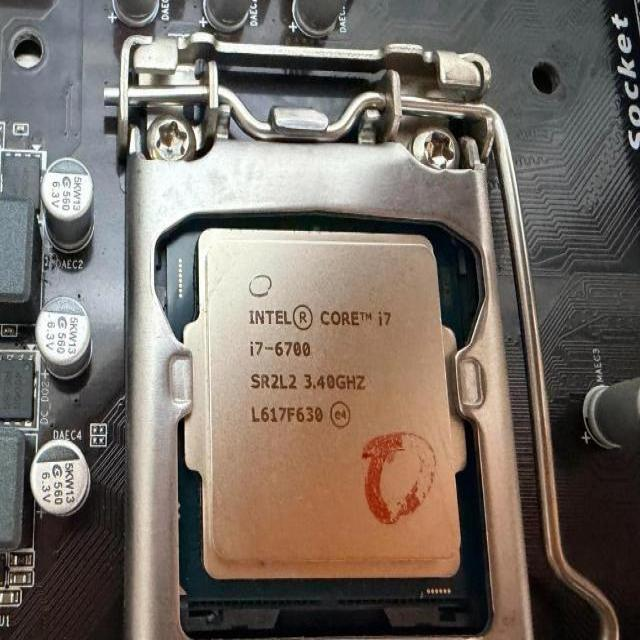CPU: (182, 228, 468, 581)
